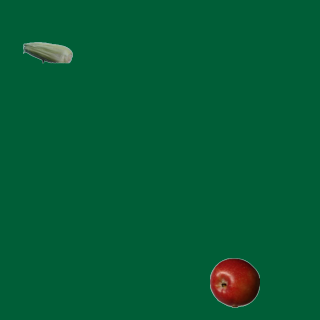Apple Braeburn: (209, 257, 259, 307)
Corn Husk: (22, 27, 72, 77)
